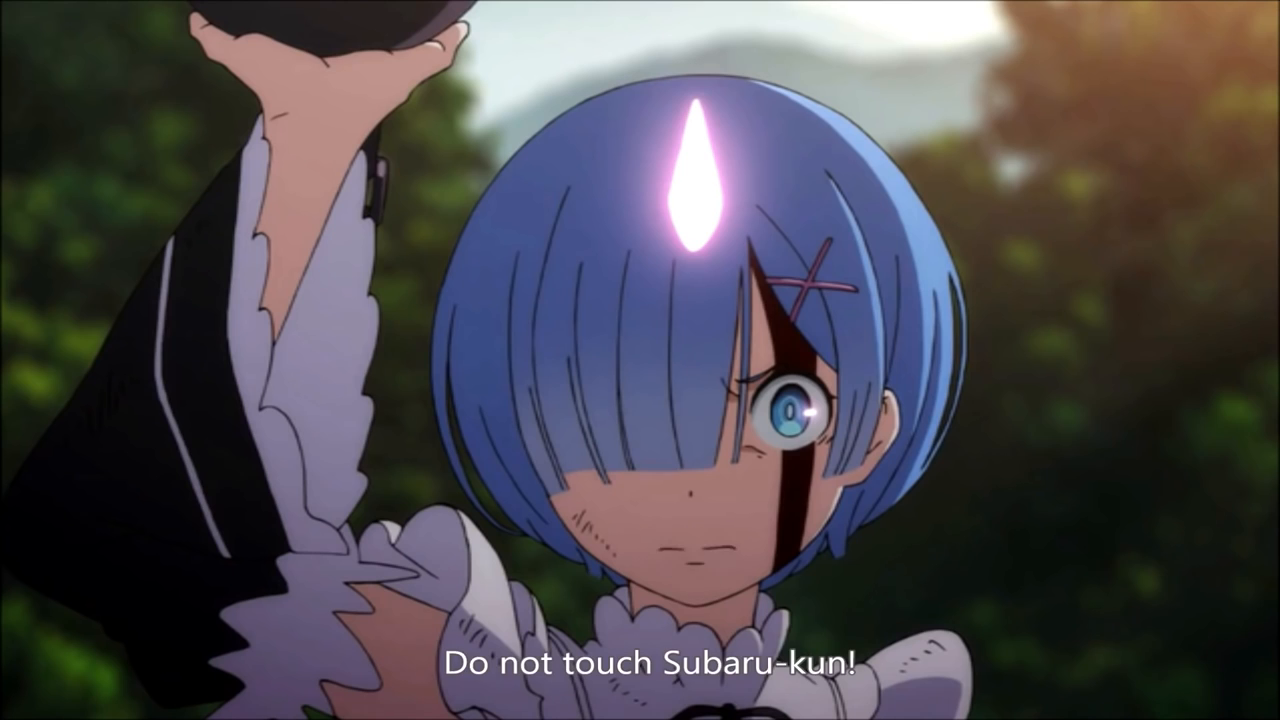REM: (428, 71, 971, 609)
